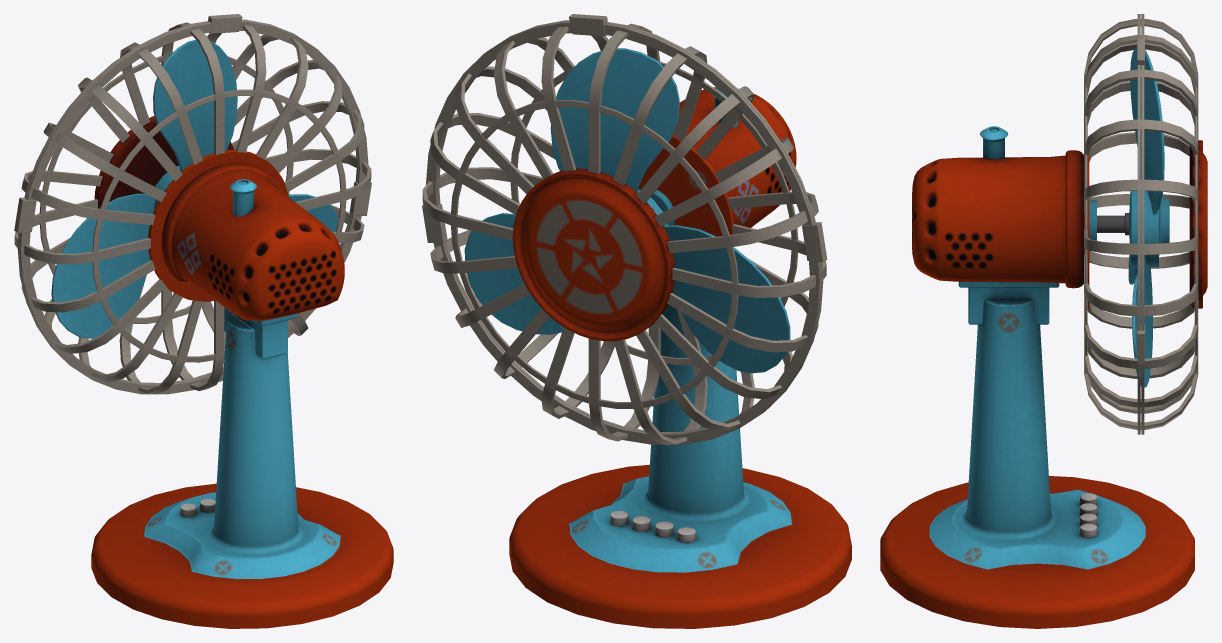
The model's file is fan.glb.
3 renders of one model, left to right at view 1: azimuth 30°, elevation 25°; view 2: azimuth 150°, elevation 25°; view 3: azimuth 270°, elevation 25°, orthographic. The views are drawn at different scales.
Visible parts, largest first — view 1: Head, 风扇.001, Leaf, Shake; view 2: Head, 风扇.001, Leaf; view 3: 风扇.001, Head, Leaf, Shake.
Part boxes in pixels (<box>): Head: <box>14,14,371,394</box>; 风扇.001: <box>91,307,393,628</box>; Leaf: <box>51,40,338,338</box>; Shake: <box>230,179,256,216</box>; Head: <box>422,14,827,445</box>; 风扇.001: <box>509,304,851,628</box>; Leaf: <box>464,48,790,373</box>; 风扇.001: <box>880,287,1194,628</box>; Head: <box>912,14,1207,434</box>; Leaf: <box>1124,46,1169,387</box>; Shake: <box>980,126,1007,159</box>.
Bounding box in the file's own units: 4.08 × 5.59 × 3.12.
1 material, 1 textured.
